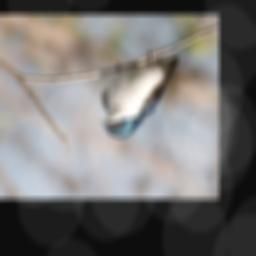Swallow: (101, 49, 182, 139)
